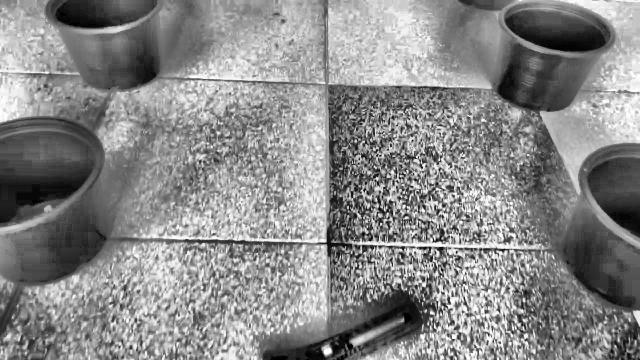pot: (0, 118, 108, 284), (493, 1, 618, 112), (562, 143, 640, 309), (45, 0, 165, 90)
